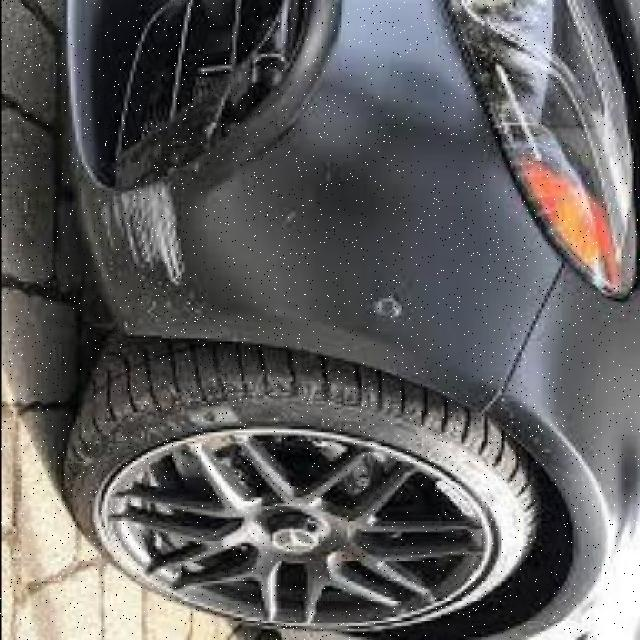damage: (89, 179, 183, 290)
